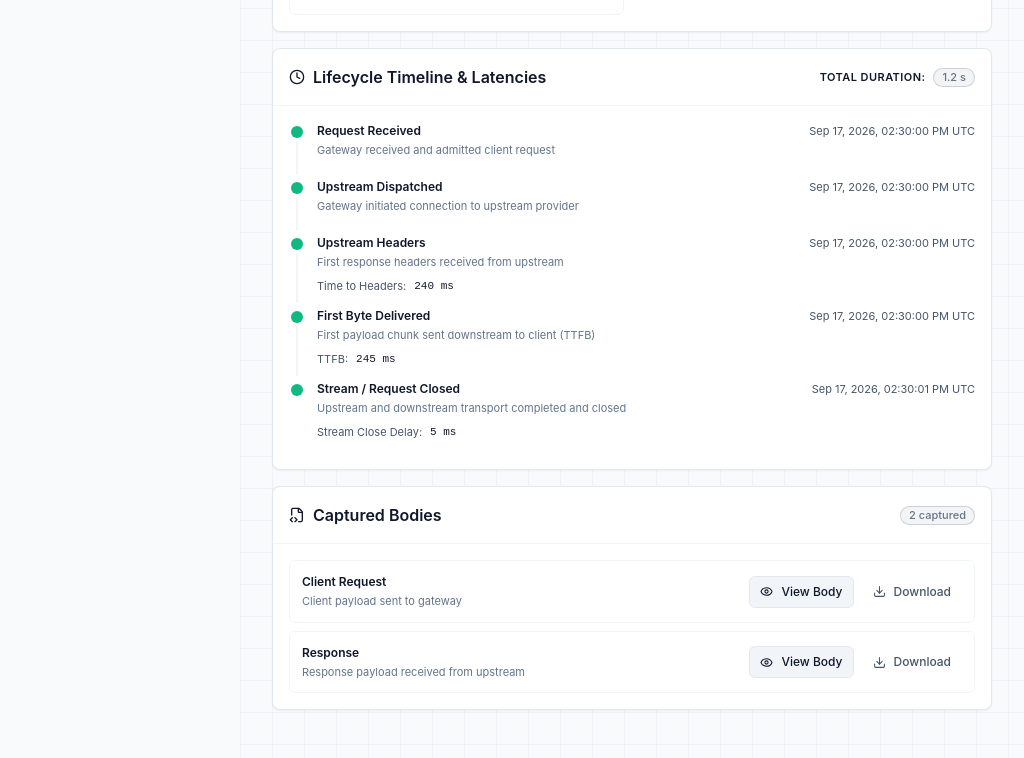
Scenario: T163 Shell & Navigation › composes the production toast provider for failed request body downloads
This screenshot has width=1024, height=758.
(page scrolled)
Click the button with test id "download-body-client_request-btn" at (912, 592), box [862,576,962,608]
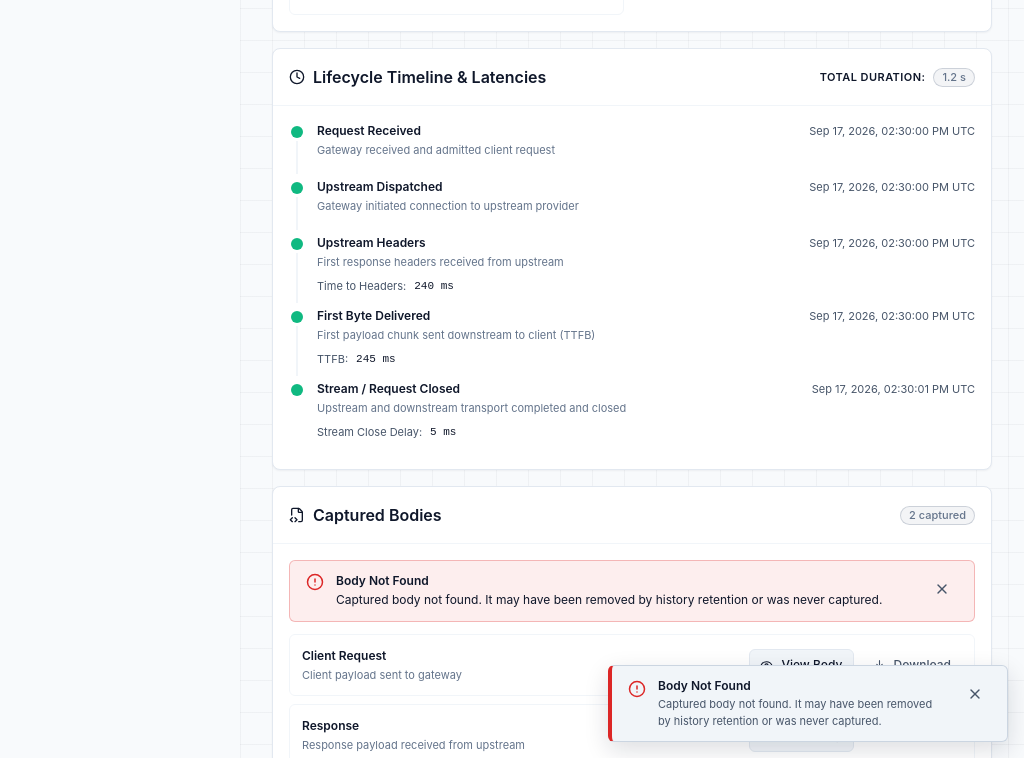
Result: the message with test id "toast-item" shows "Body Not Found" at [658,678,751,693]
Result: the message with test id "body-download-error-alert" is shown at [289,560,975,622]
